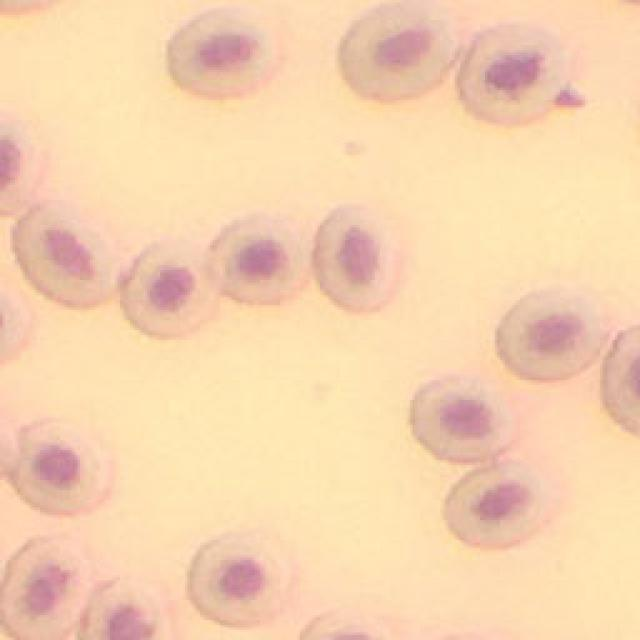RBC: (340, 0, 463, 100), (12, 200, 120, 309), (166, 8, 288, 100), (460, 22, 568, 124), (498, 290, 608, 382), (120, 240, 222, 339), (15, 420, 117, 516), (446, 462, 555, 550), (190, 535, 292, 629), (410, 378, 521, 464), (314, 205, 402, 312), (0, 538, 92, 640), (212, 215, 312, 306), (80, 582, 175, 640), (600, 325, 640, 437), (0, 111, 42, 216)
